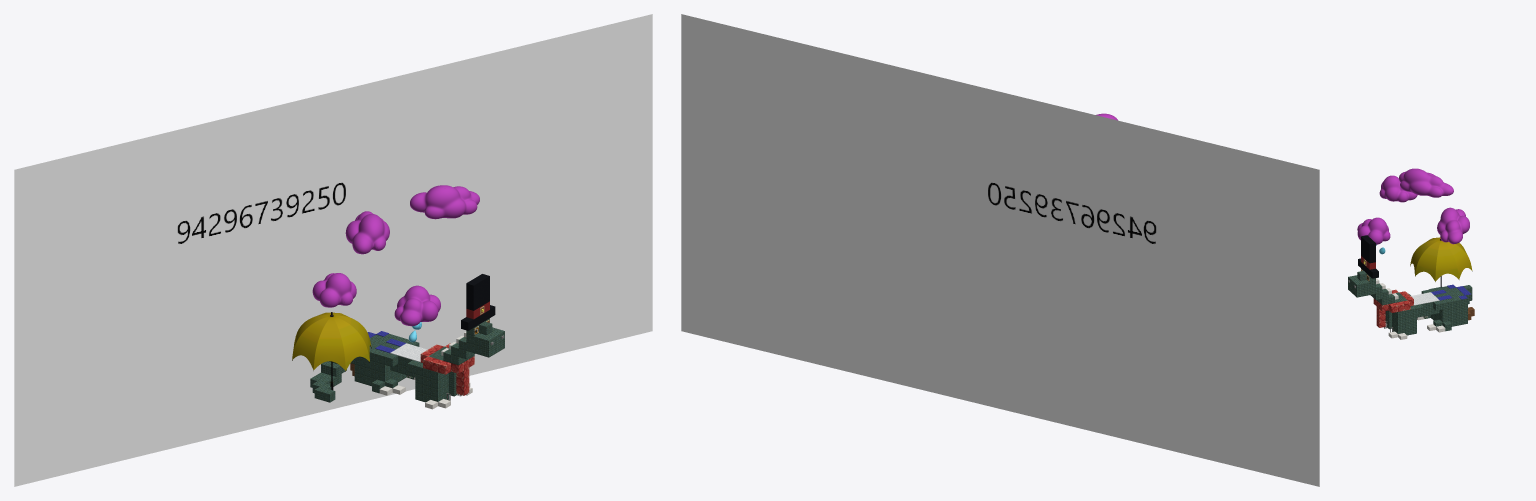
Rendered from mine.fbx.
3 views of the same model, side by side, from view 1: azimuth 30°, elevation 25°; view 2: azimuth 150°, elevation 25°; view 3: azimuth 270°, elevation 25° (orthographic). The views are drawn at different scales.
Parts seen in each view (by area): view 1: root, node_id83, node_id36, node_id42, node_id40, node_id44, node_id38, node_id73, node_id85; view 2: root; view 3: node_id73, node_id36, node_id83, node_id44, node_id42, node_id40, node_id38, node_id67.
Boxes of the visible parts, x1,y1,x2,y2 form: root: (14,14,652,486); node_id83: (322,304,492,409); node_id36: (292,312,371,390); node_id42: (410,185,479,219); node_id40: (394,285,440,342); node_id44: (345,211,389,254); node_id38: (312,273,356,307); node_id73: (371,301,496,396); node_id85: (310,337,370,400); root: (681,14,1319,486); node_id73: (1360,261,1467,339); node_id36: (1410,237,1472,287); node_id83: (1355,256,1461,329); node_id44: (1399,168,1453,197); node_id42: (1437,207,1469,244); node_id40: (1357,217,1390,254); node_id38: (1379,175,1417,202); node_id67: (1366,240,1375,263).
Bounding box in the file's own units: 1.42 × 0.672 × 0.4434.
Materials: 26 (24 with a texture image).
